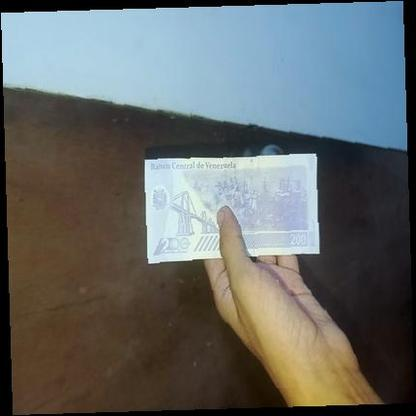two_hundred-back-vef: (144, 152, 320, 264)
